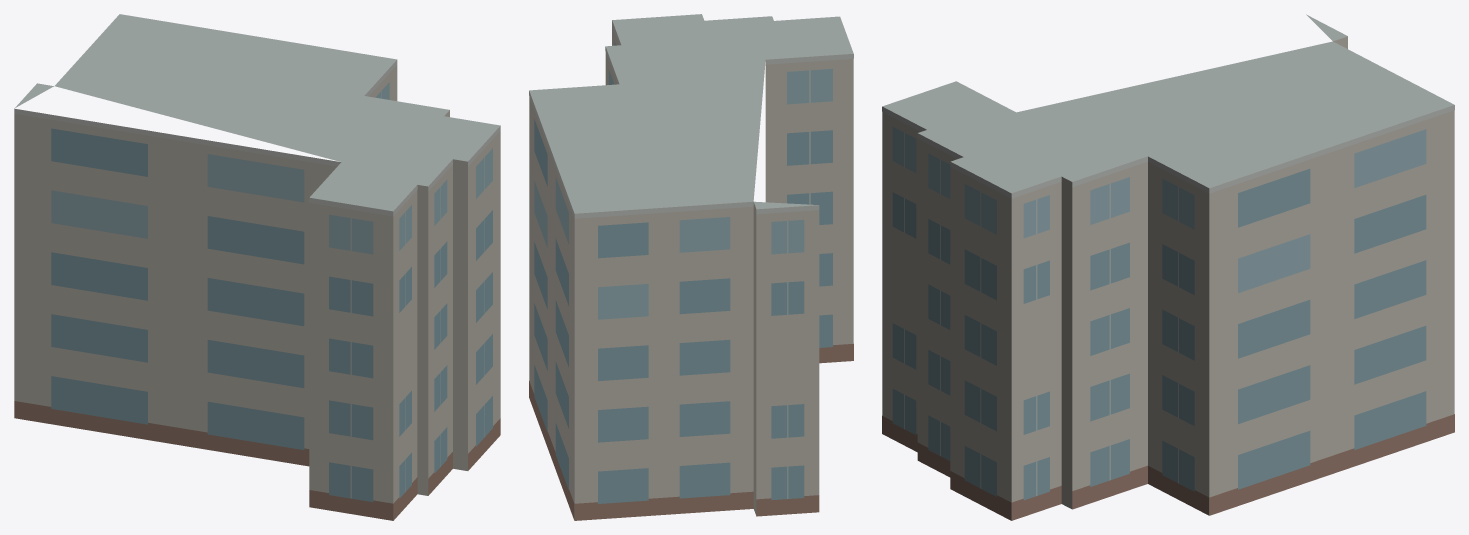
File: survey-upis-32660493.glb
3 renders of one model, left to right at view 1: azimuth 30°, elevation 25°; view 2: azimuth 150°, elevation 25°; view 3: azimuth 270°, elevation 25°, orthographic. The views are drawn at different scales.
Parts seen in each view (by area): view 1: survey-upis-32660493.tmp; view 2: survey-upis-32660493.tmp; view 3: survey-upis-32660493.tmp.
Part boxes in pixels (box(x1,y1,x2,y2)): survey-upis-32660493.tmp: box(14, 14, 500, 520); survey-upis-32660493.tmp: box(529, 14, 853, 520); survey-upis-32660493.tmp: box(882, 14, 1454, 520).
Size of the model in its own units: 17.75 by 15.1 by 23.94.
